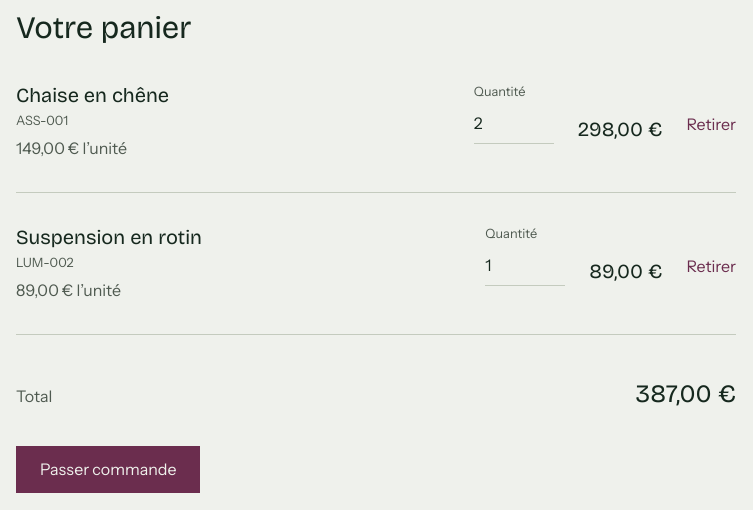
Test: CartPage › retire une ligne du panier
The width and height of the screenshot is (753, 510).
Click the button "Retirer" next to "298,00 €" at x=711, y=129, box [686, 113, 736, 144]
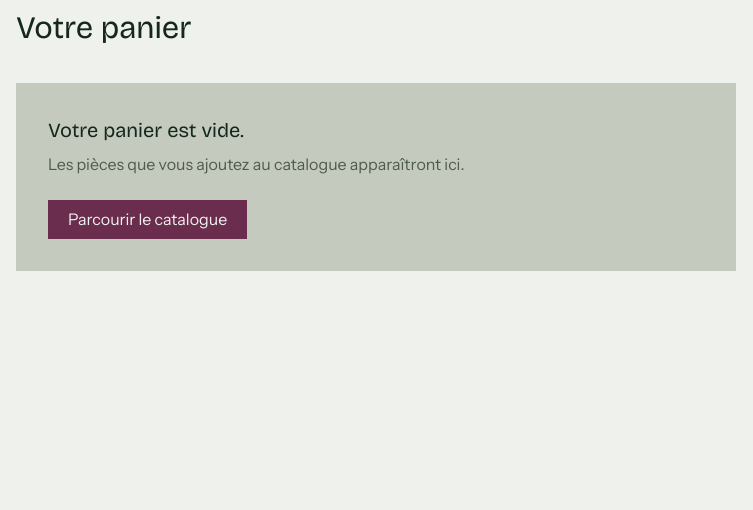
Expected: the text "Votre panier est vide." is shown, [48, 118, 244, 142]
